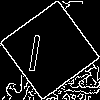I: (25, 25, 46, 72)
